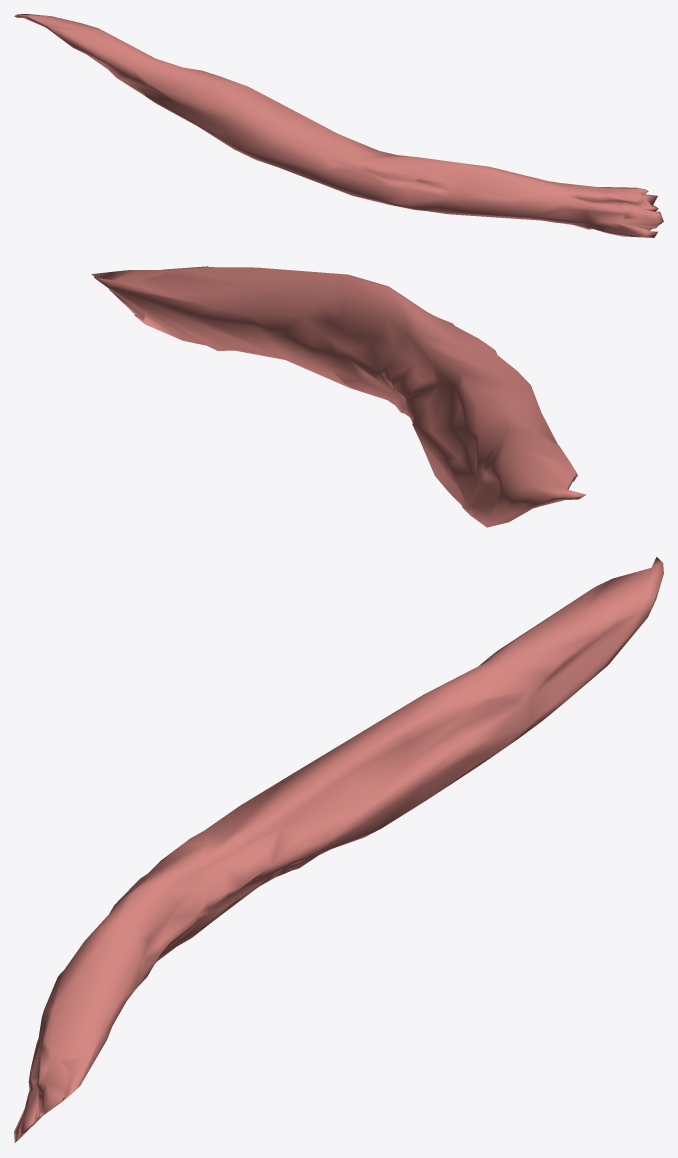
3 views of the same model, one above another, from view 1: azimuth 30°, elevation 25°; view 2: azimuth 150°, elevation 25°; view 3: azimuth 270°, elevation 25° (orthographic). The views are drawn at different scales.
Parts seen in each view (by area): view 1: ZA_178d8d0d193aafe6; view 2: ZA_178d8d0d193aafe6; view 3: ZA_178d8d0d193aafe6.
Part boxes in pixels (<box>): ZA_178d8d0d193aafe6: <box>14,14,663,237</box>; ZA_178d8d0d193aafe6: <box>91,266,586,527</box>; ZA_178d8d0d193aafe6: <box>14,557,663,1142</box>.
Bounding box in the file's own units: 0.0747 × 0.0277 × 0.0616.
